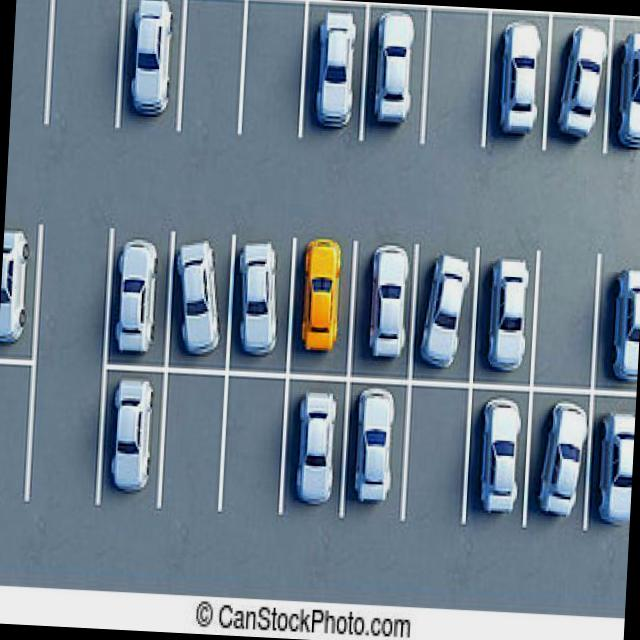car: (538, 12, 619, 166), (519, 384, 598, 539), (94, 363, 174, 516), (338, 375, 416, 529), (478, 11, 556, 164), (277, 373, 356, 524), (298, 1, 376, 152), (354, 5, 432, 156), (458, 382, 534, 536), (346, 238, 422, 386), (408, 242, 483, 391), (286, 235, 362, 382), (102, 228, 178, 372), (114, 0, 191, 141), (469, 247, 542, 394), (166, 231, 240, 376), (226, 232, 298, 380), (581, 388, 637, 536), (591, 256, 640, 395), (0, 224, 43, 363), (601, 17, 640, 165)
free: (396, 376, 476, 532), (155, 366, 234, 521), (417, 7, 496, 159), (45, 0, 130, 138), (215, 370, 292, 522), (175, 0, 252, 146), (235, 0, 310, 148), (528, 250, 602, 395), (9, 0, 59, 131), (0, 355, 41, 506)
